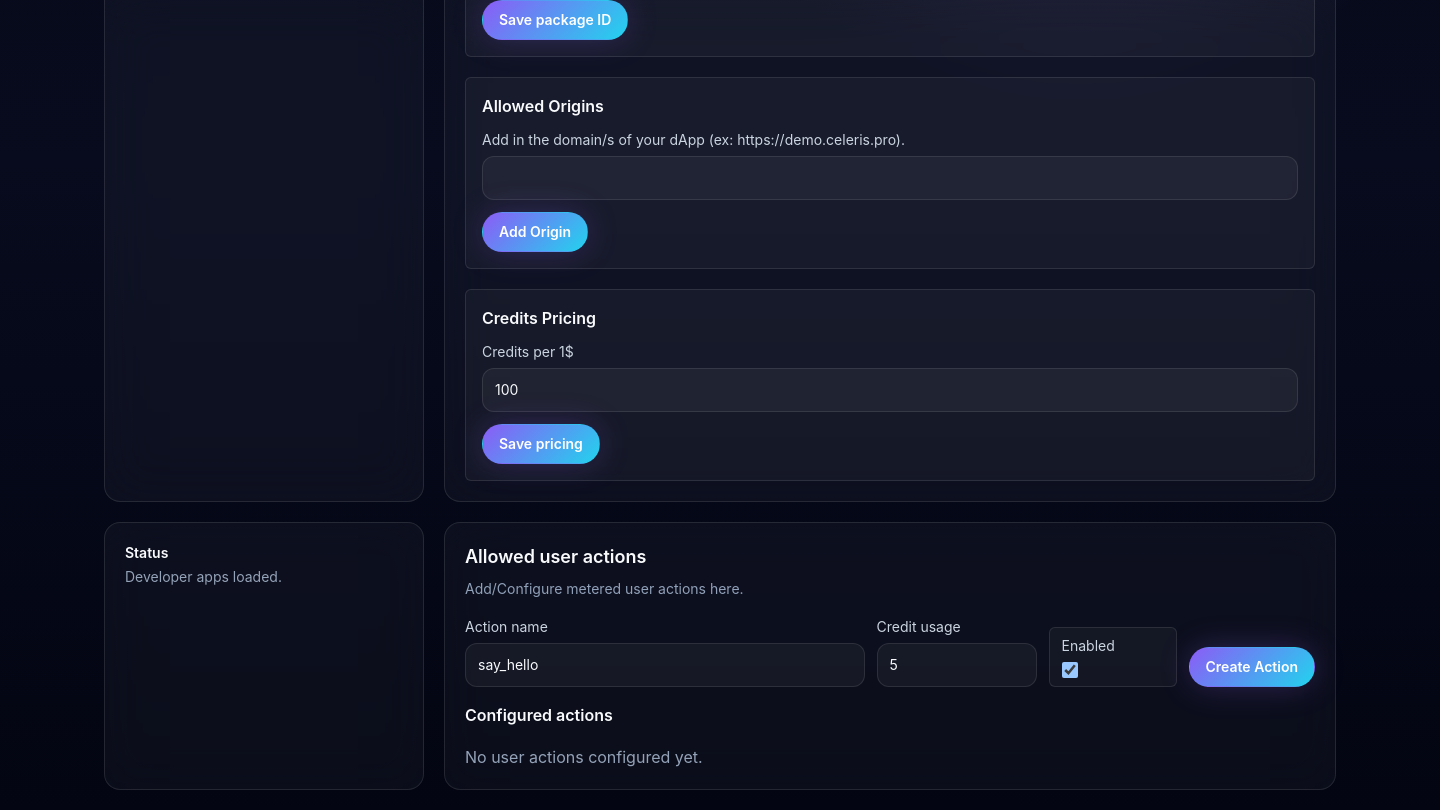
DeveloperSetupConsole › creates and lists the configured say_hello user action through the developer API
(page scrolled)
Expected: the field labelled "Action name" holds "say_hello", [465,643,864,687]
Replace the text in the number field labelled "Credit usage" with "7": (956, 665) [876,643,1036,687]
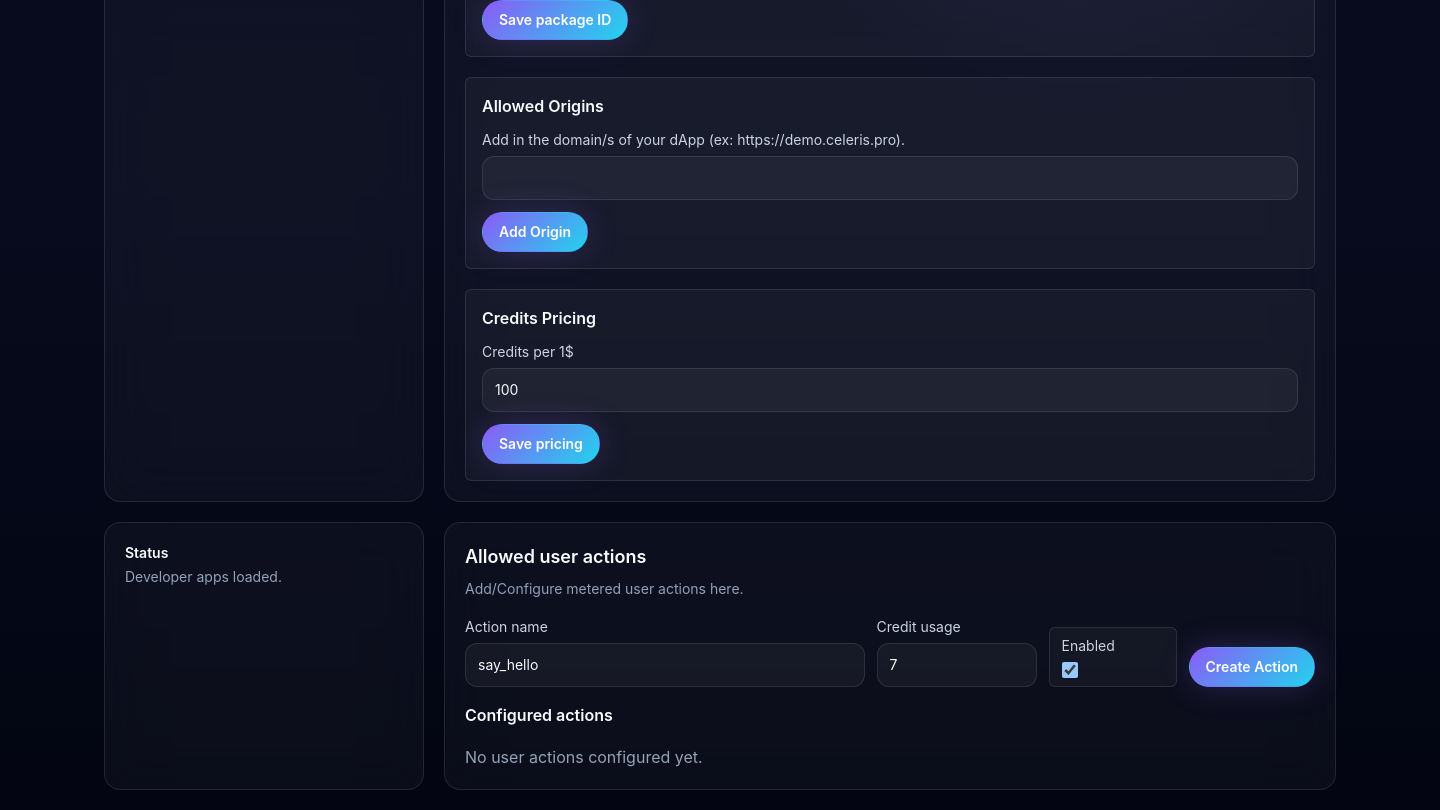
Click the checkbox labelled "Enabled": (1070, 670) [1062,662,1078,678]
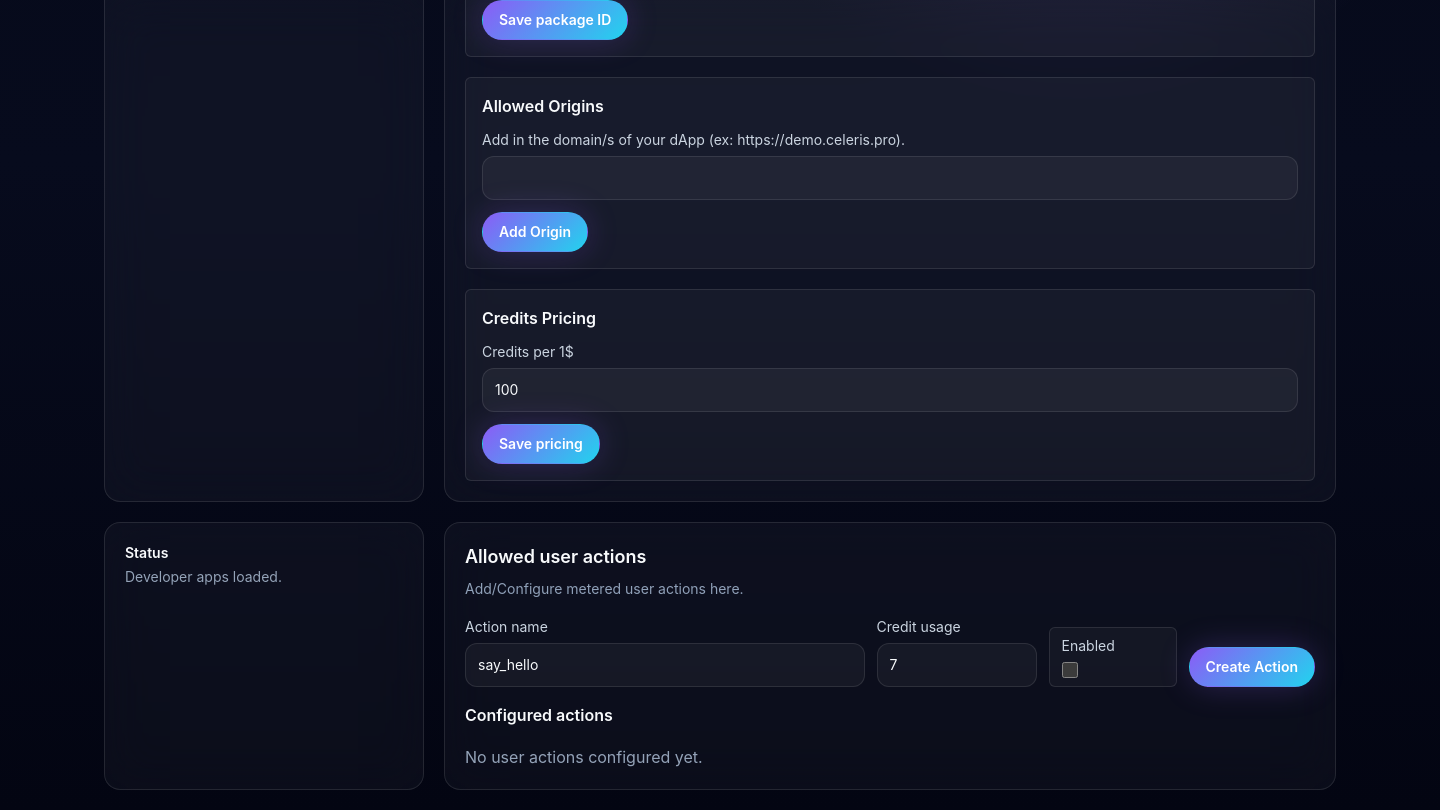
Click the button "Create Action": (1252, 667) [1188,647,1315,687]
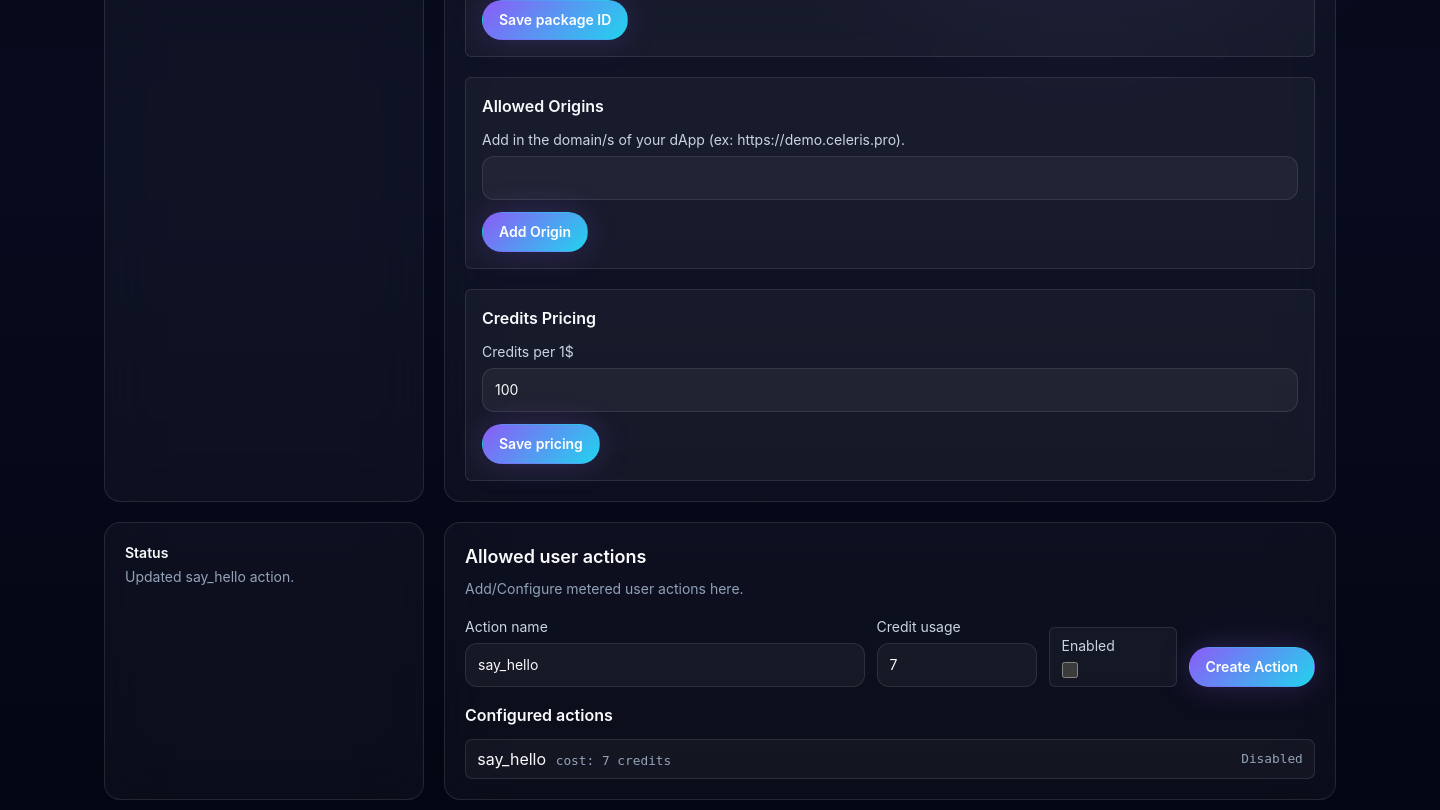
Now the text "Updated say_hello action." is shown, box [125,567,294,587]
Now the text "say_hello" is shown, box [477,747,546,771]
Now the text "cost: 7 credits" is shown, box [556,751,671,770]
Click the button "say_hello cost: 7 credits Disabled": (512, 759) [465,739,1315,779]
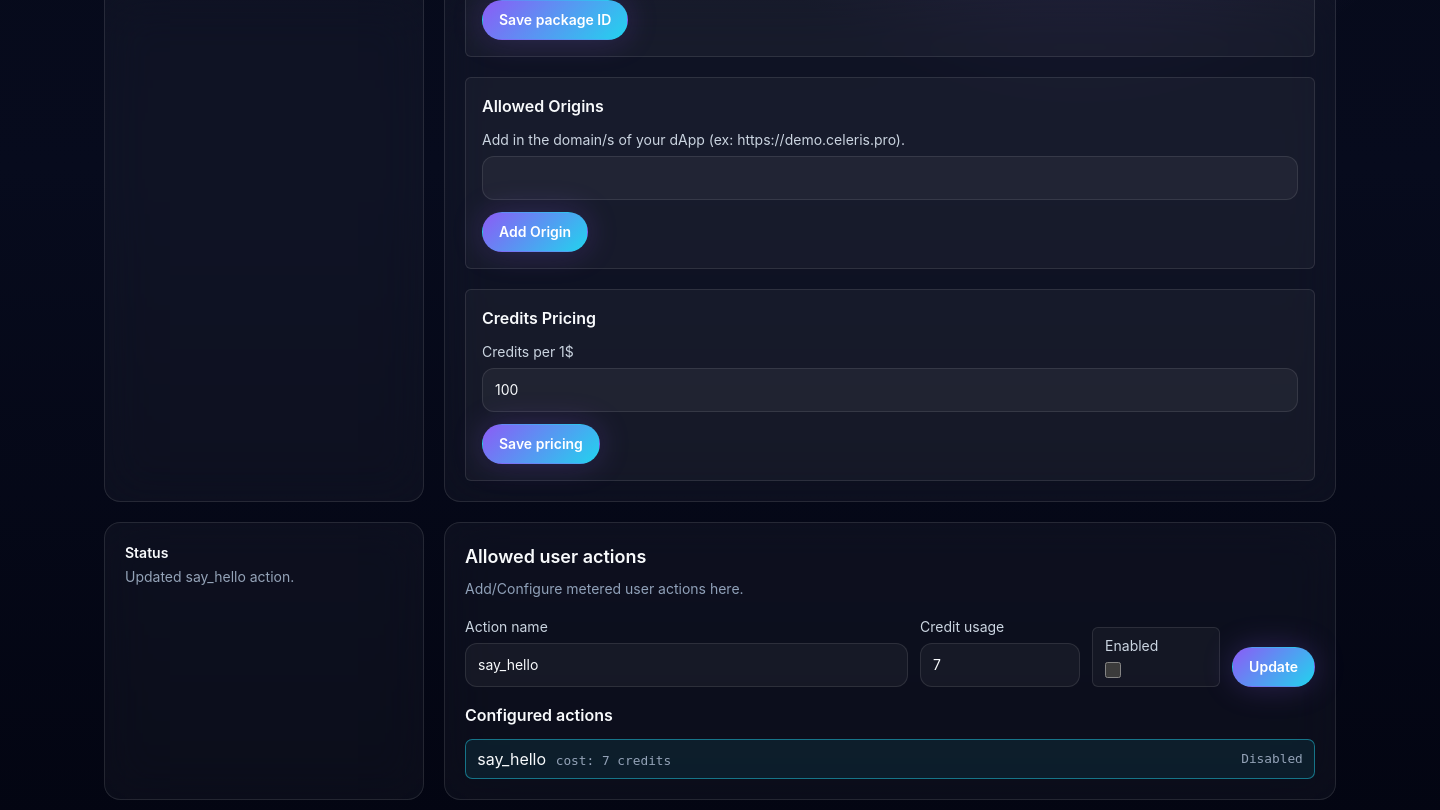
Expected: the field labelled "Action name" holds "say_hello", [465,643,908,687]
Now the checkbox labelled "Enabled" is not checked, box [1105,662,1121,678]
Now the button "Update" is shown, box [1232,647,1315,687]
